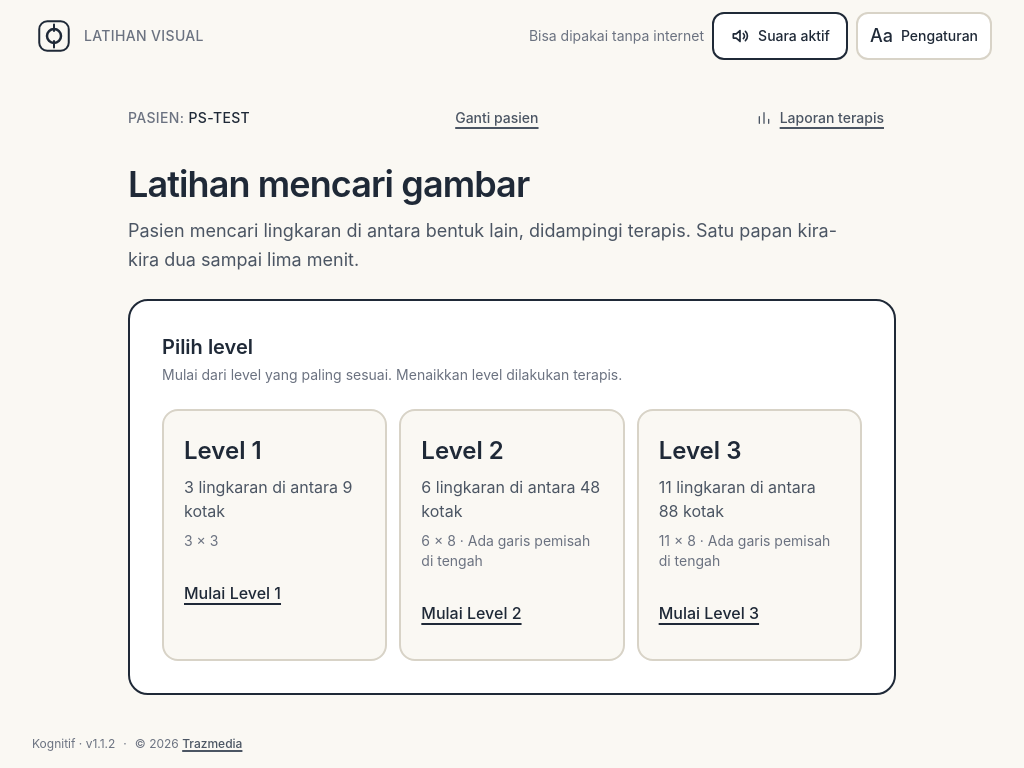
Test: layar sesi › pengaturan tampilan bisa dibuka dari header dan punya tiga sakelar
What coordinates should you click on to do the following:
click the button with aria-label "Pengaturan tampilan"
I would click on:
 (924, 36)
Its box is [856,12,992,60].
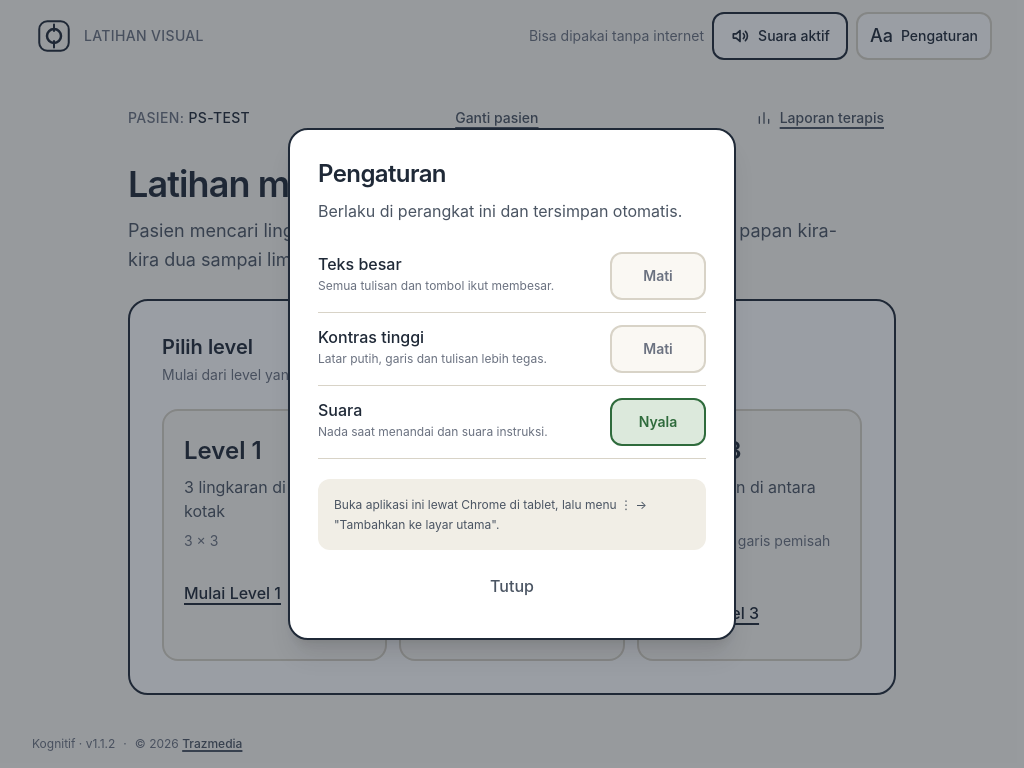
Check: the text "Teks besar" is shown, box [318,254,402,274]
Check: the text "Kontras tinggi" is shown, box [318,327,424,347]
Check: the number of switches is 3, box [610,252,706,300]; [610,325,706,373]; [610,398,706,446]
